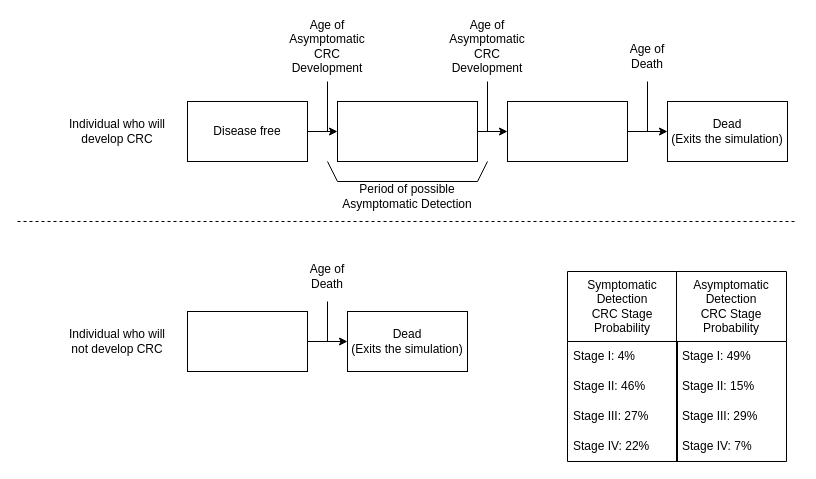
This 816x479 diagram has some shape labels left out. Each missing label, with the centre of its shape:
"Alive" goes at (247,341).
"Asymtomatic stage (Preclinical Sojourn Time)" goes at (407,131).
"Symptomatic stage" goes at (567,131).
